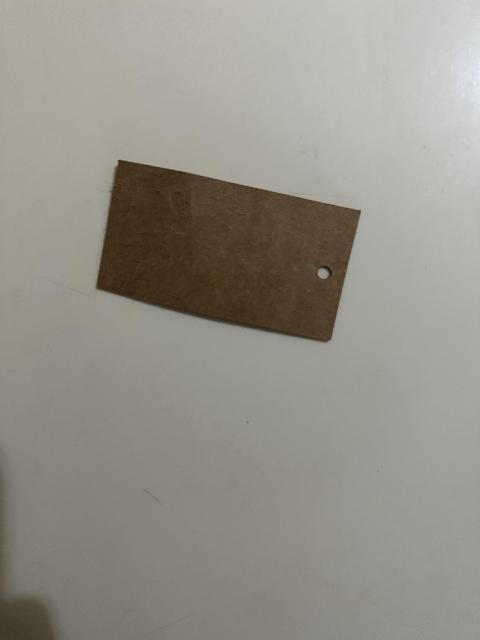Kagit: (96, 159, 362, 342)
